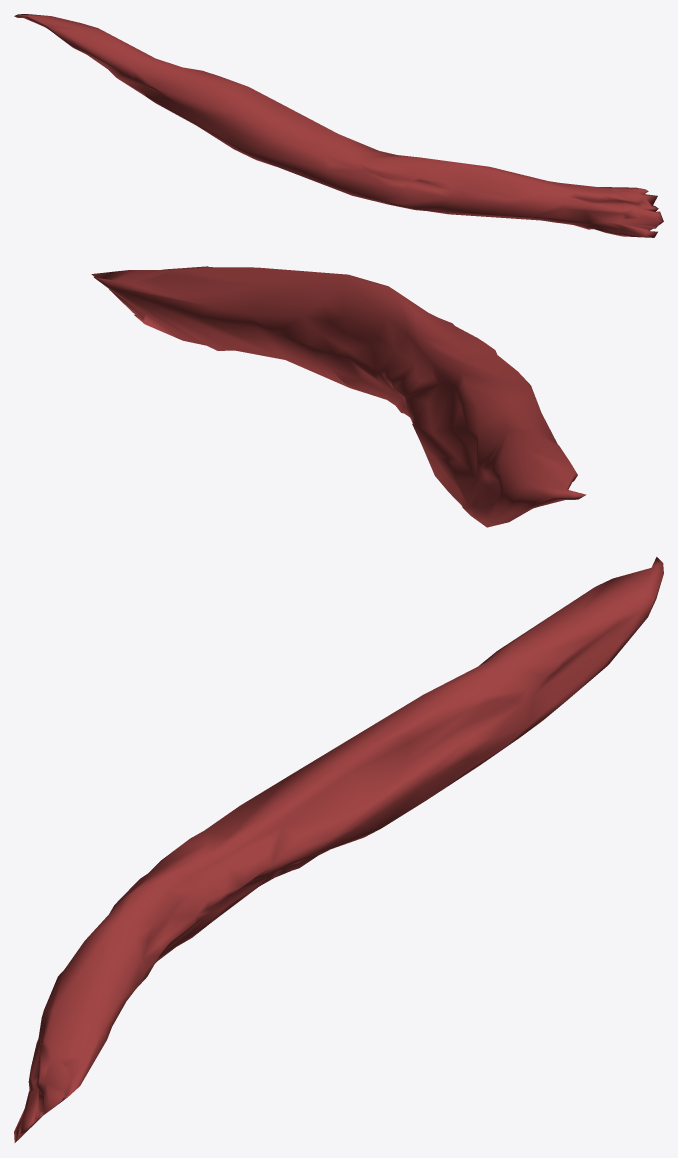
File: subclavius-muscle-r.glb
3 views of the same model, one above another, from view 1: azimuth 30°, elevation 25°; view 2: azimuth 150°, elevation 25°; view 3: azimuth 270°, elevation 25° (orthographic). The views are drawn at different scales.
Visible parts, largest first — view 1: Subclavius muscle.r; view 2: Subclavius muscle.r; view 3: Subclavius muscle.r.
Boxes of the visible parts, left/top/right/bottom form: Subclavius muscle.r: left=14, top=14, right=663, bottom=237; Subclavius muscle.r: left=91, top=266, right=586, bottom=527; Subclavius muscle.r: left=14, top=557, right=663, bottom=1142.
Bounding box in the file's own units: 0.0747 × 0.0277 × 0.0616.
